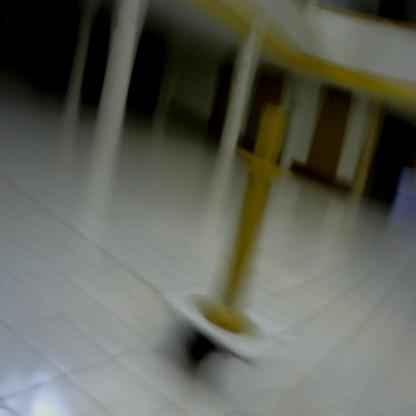pole: (202, 94, 304, 351)
